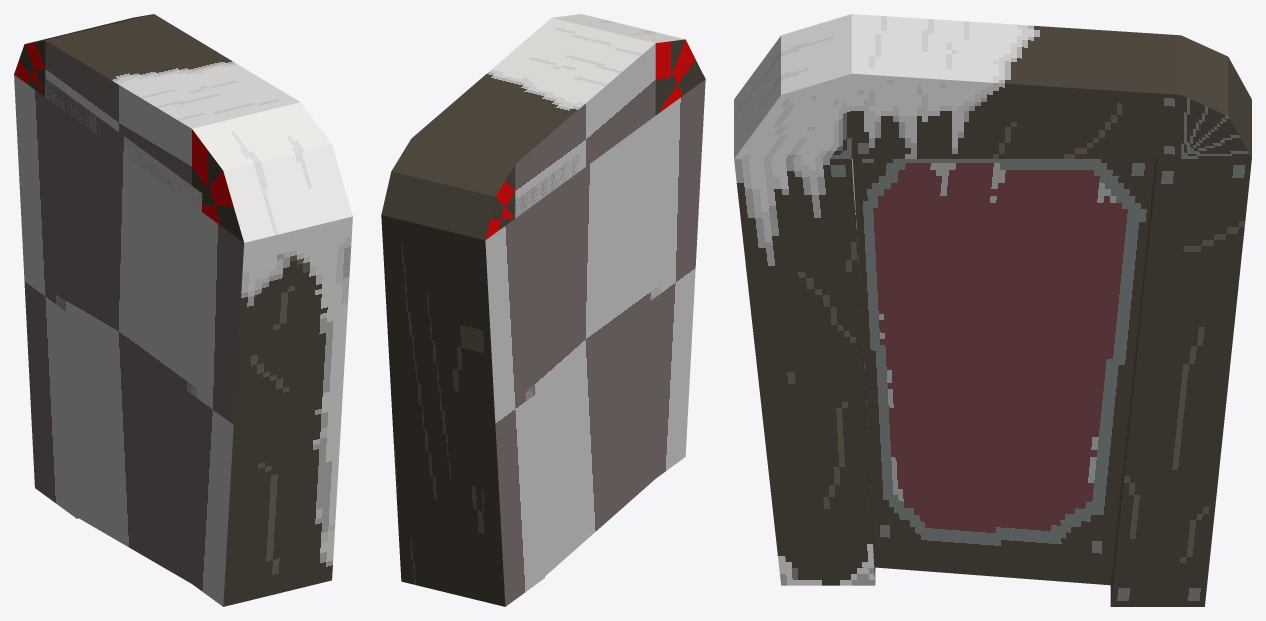
Rendered from door_open.gltf.
3 renders of one model, left to right at view 1: azimuth 30°, elevation 25°; view 2: azimuth 150°, elevation 25°; view 3: azimuth 270°, elevation 25°, orthographic. The views are drawn at different scales.
Size of the model in its own units: 1.5 by 6.25 by 5.5.
1 material, 1 textured.
